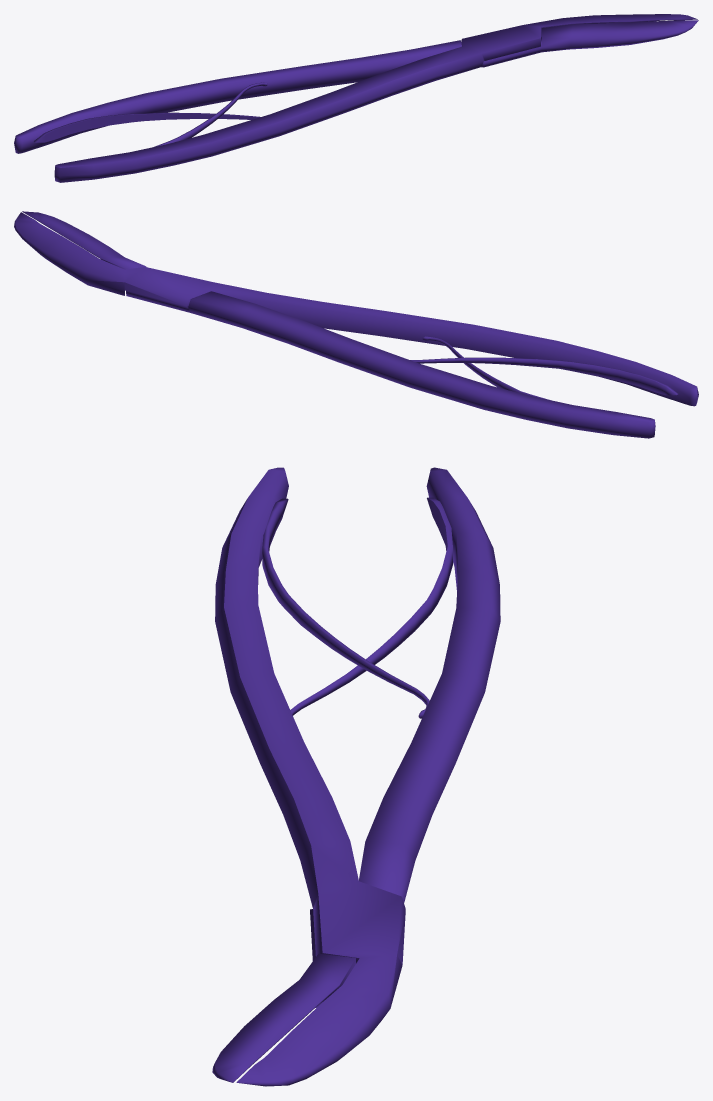
Rendered from SM_Morgue_Scissors_10.FBX.
The picture shows the model from 3 angles, top to bottom: view 1: azimuth 30°, elevation 25°; view 2: azimuth 150°, elevation 25°; view 3: azimuth 270°, elevation 25°; orthographic projection. The views are drawn at different scales.
Parts seen in each view (by area): view 1: Morgue_Scissors_10_element_2, Morgue_Scissors_10_element_1; view 2: Morgue_Scissors_10_element_2, Morgue_Scissors_10_element_1; view 3: Morgue_Scissors_10_element_2, Morgue_Scissors_10_element_1.
Boxes of the visible parts, left/top/right/bottom form: Morgue_Scissors_10_element_2: left=54, top=14, right=697, bottom=182; Morgue_Scissors_10_element_1: left=14, top=20, right=698, bottom=153; Morgue_Scissors_10_element_2: left=14, top=212, right=698, bottom=406; Morgue_Scissors_10_element_1: left=22, top=211, right=655, bottom=438; Morgue_Scissors_10_element_2: left=215, top=467, right=429, bottom=1086; Morgue_Scissors_10_element_1: left=212, top=467, right=500, bottom=1082.
Bounding box in the file's own units: 17.9 × 0.4848 × 3.53.
